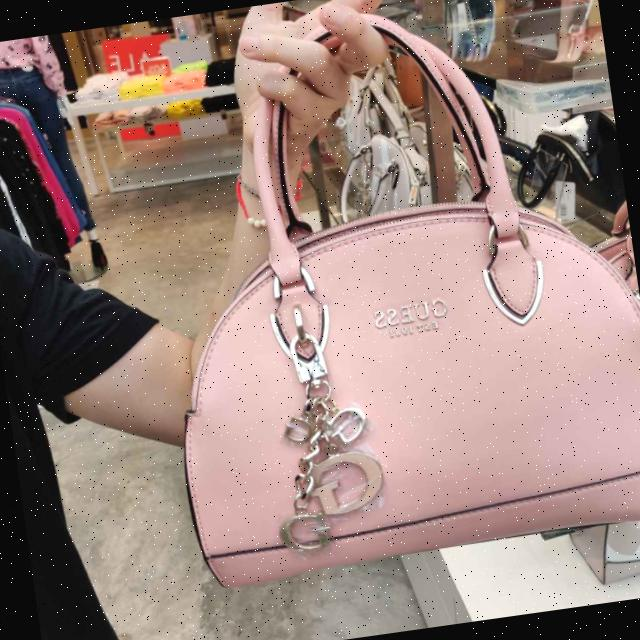Handbag: (124, 0, 640, 594)
